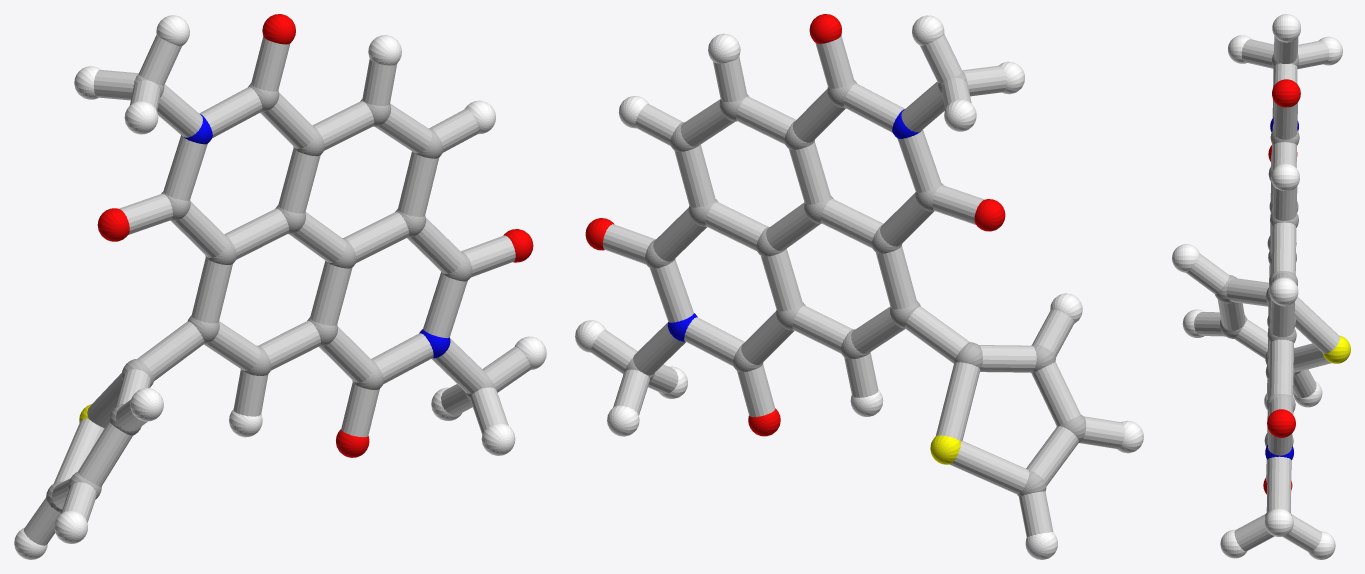
File: Dimethyl_Naphthalene_Dicarboximide_Phi_25_Theta_300_Thiophene.glb
3 views of the same model, side by side, from view 1: azimuth 30°, elevation 25°; view 2: azimuth 150°, elevation 25°; view 3: azimuth 270°, elevation 25° (orthographic). The views are drawn at different scales.
Visible parts, largest first — view 1: grp14119, grp7241, grp1, grp12309, grp11585; view 2: grp14119, grp7241, grp1, grp12309, grp11585, grp13757; view 3: grp14119, grp7241, grp1, grp12309, grp13757.
Part boxes in pixels (<box>): grp14119: <box>23,35,530,545</box>; grp7241: <box>14,15,546,559</box>; grp1: <box>46,74,496,512</box>; grp12309: <box>97,14,533,457</box>; grp11585: <box>181,114,450,358</box>; grp14119: <box>590,34,1124,537</box>; grp7241: <box>575,15,1143,559</box>; grp1: <box>624,71,1086,496</box>; grp12309: <box>585,14,1005,436</box>; grp11585: <box>667,109,920,341</box>; grp13757: <box>930,435,960,464</box>; grp14119: <box>1186,36,1340,552</box>; grp7241: <box>1172,14,1342,559</box>; grp1: <box>1215,54,1300,517</box>; grp12309: <box>1263,79,1300,494</box>; grp13757: <box>1322,335,1350,363</box>.
Bounding box in the file's own units: 11 × 10.19 × 3.71.
